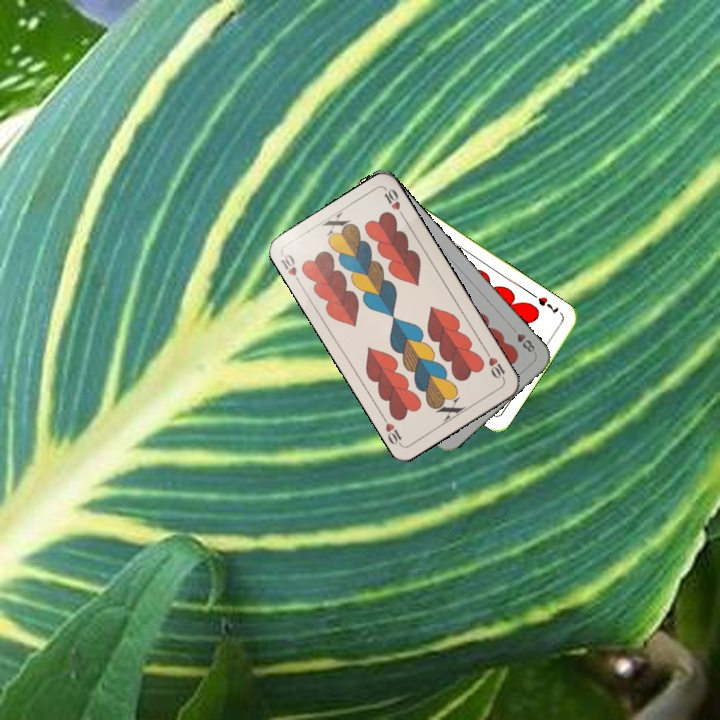H10: (481, 346, 508, 383), (277, 250, 304, 287)
H7: (534, 293, 561, 317)
H8: (508, 323, 537, 355)
